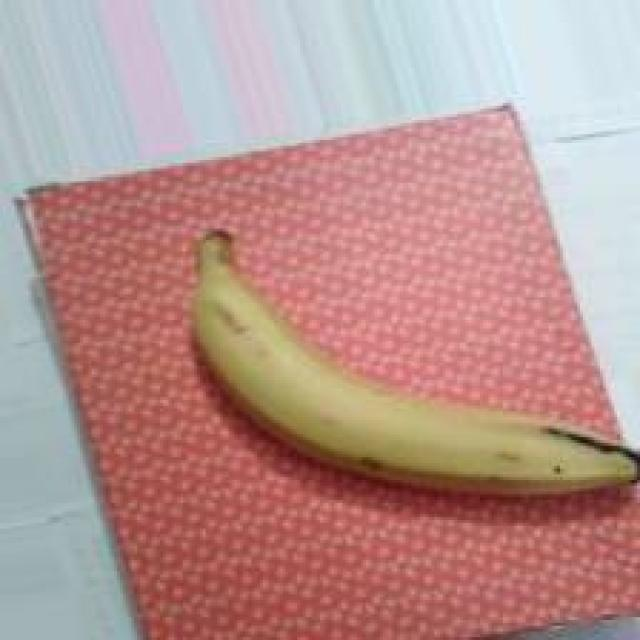banana: (152, 196, 640, 544)
